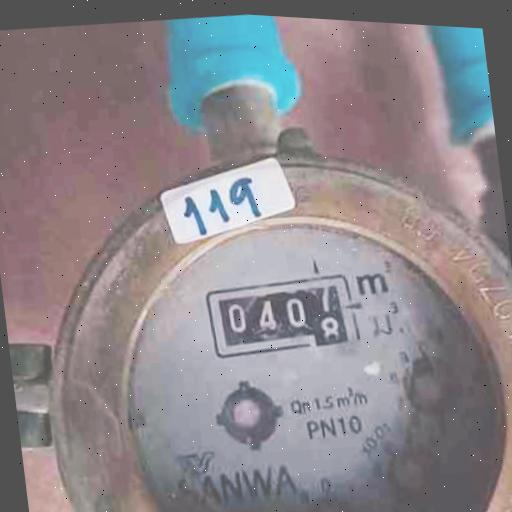0: (218, 294, 259, 349), (278, 286, 315, 340)
4: (249, 291, 286, 345)
7: (303, 280, 350, 349)
border_water_meter_number: (202, 264, 362, 369)
